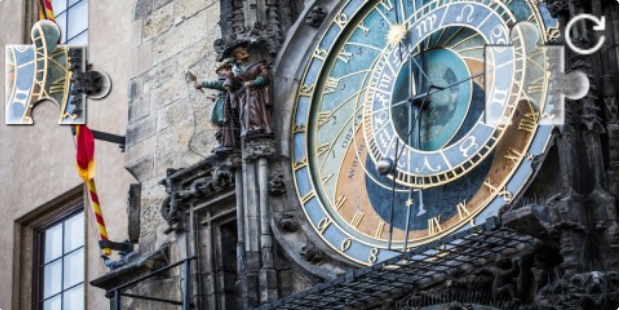target: (484, 21, 590, 125)
